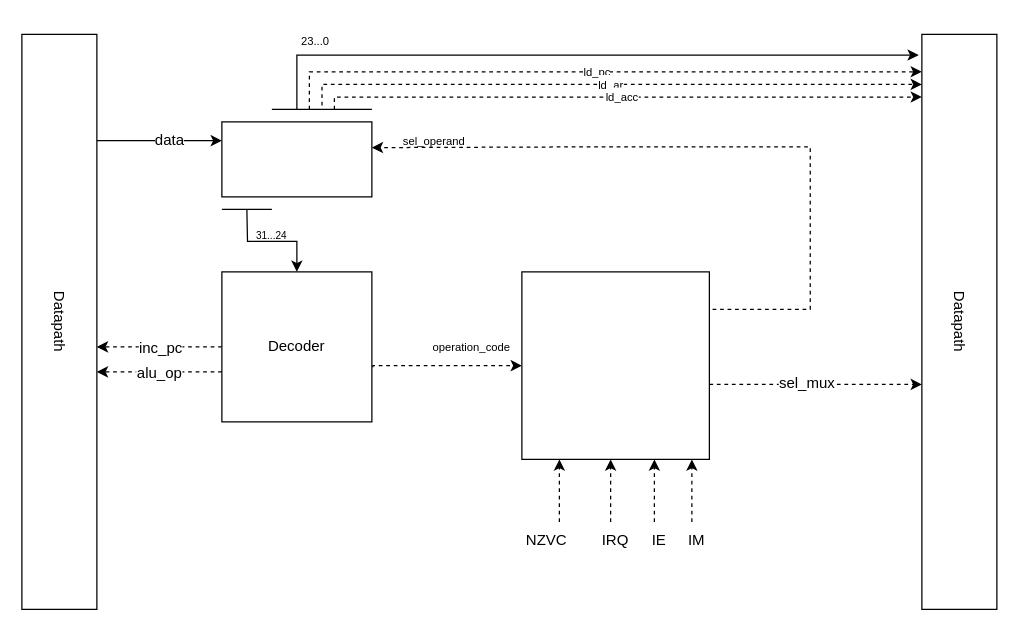
Image size: 1019x631. Some labels were removed from this diagram. Here are the shapes that lost their labels. From the top down, the box of each, then its label:
(221, 121, 372, 197): IR
(521, 271, 709, 459): Control Signal Decoder
